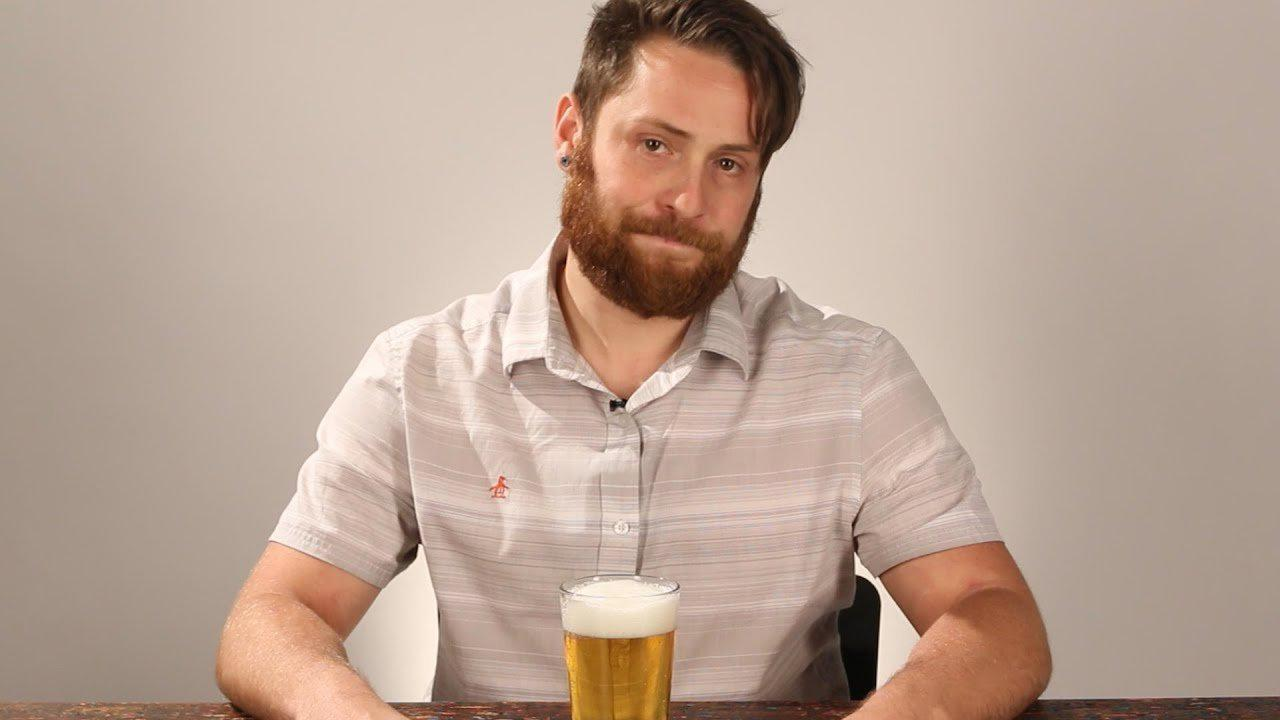Drunk: (597, 60, 759, 303)
